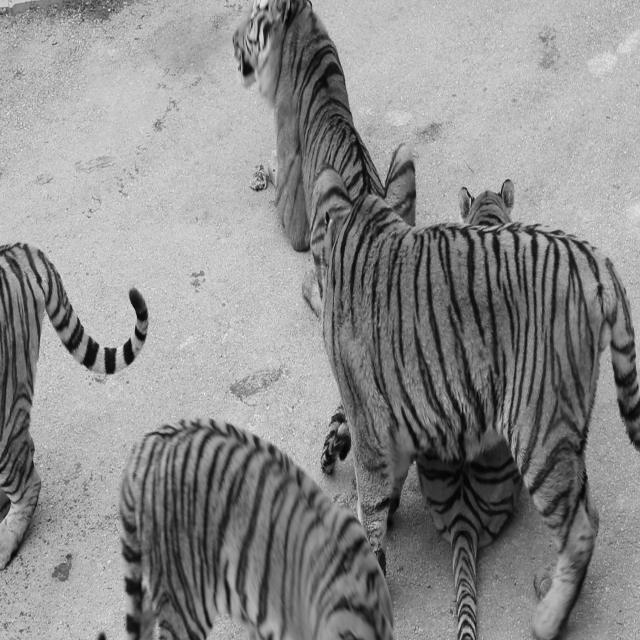Tiger: (231, 0, 639, 638), (113, 415, 397, 639), (0, 240, 149, 571)
